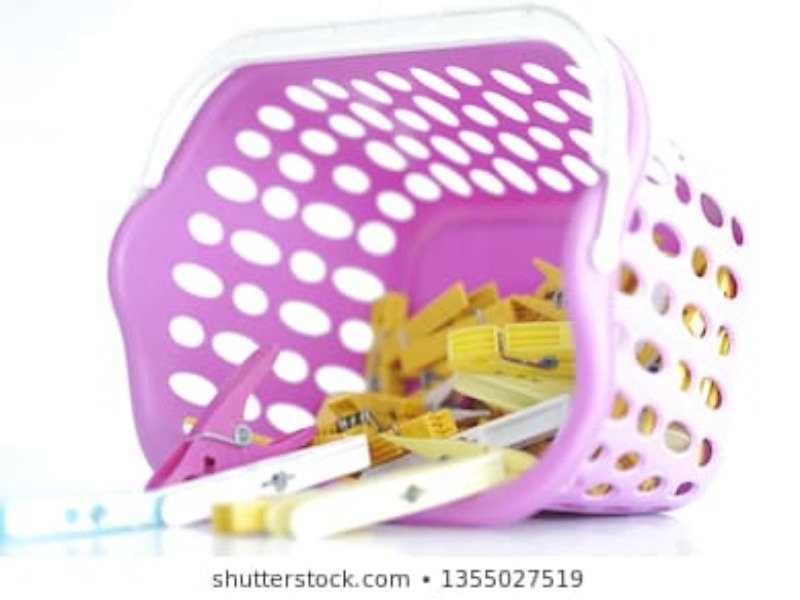plastic-peg: (140, 333, 313, 485), (441, 317, 591, 377)
